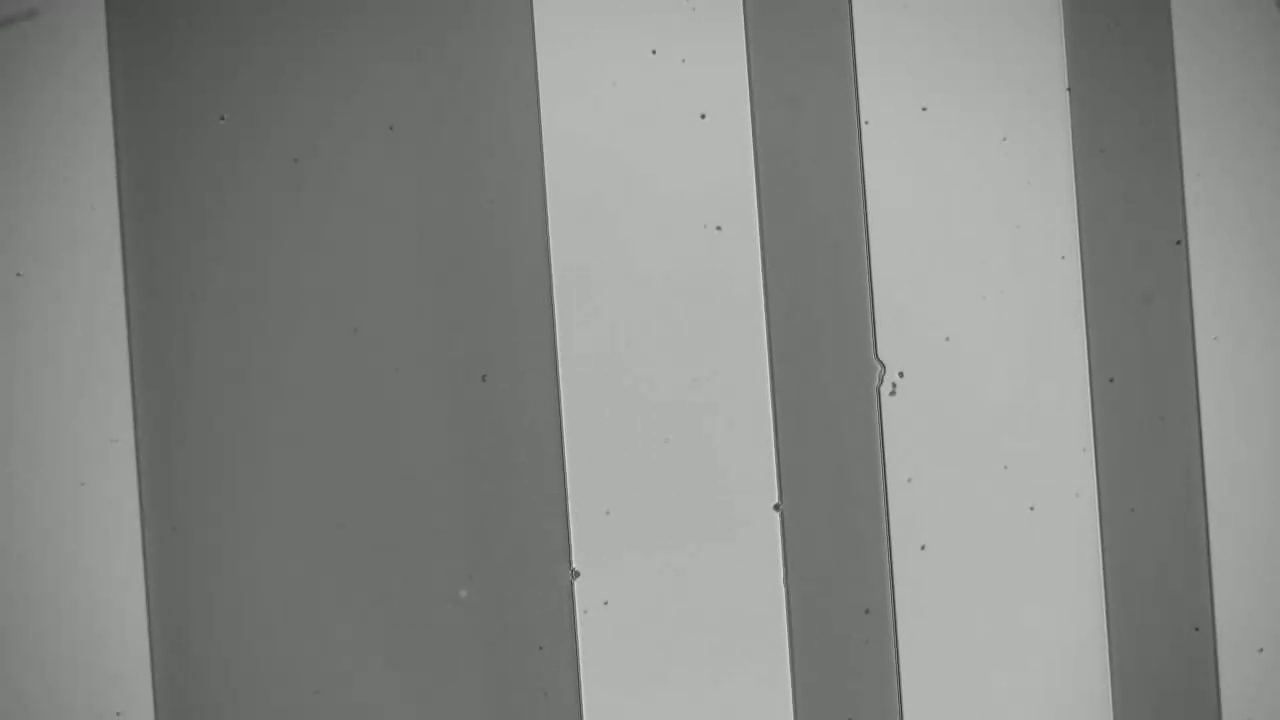edge_bite: (860, 349, 897, 394)
